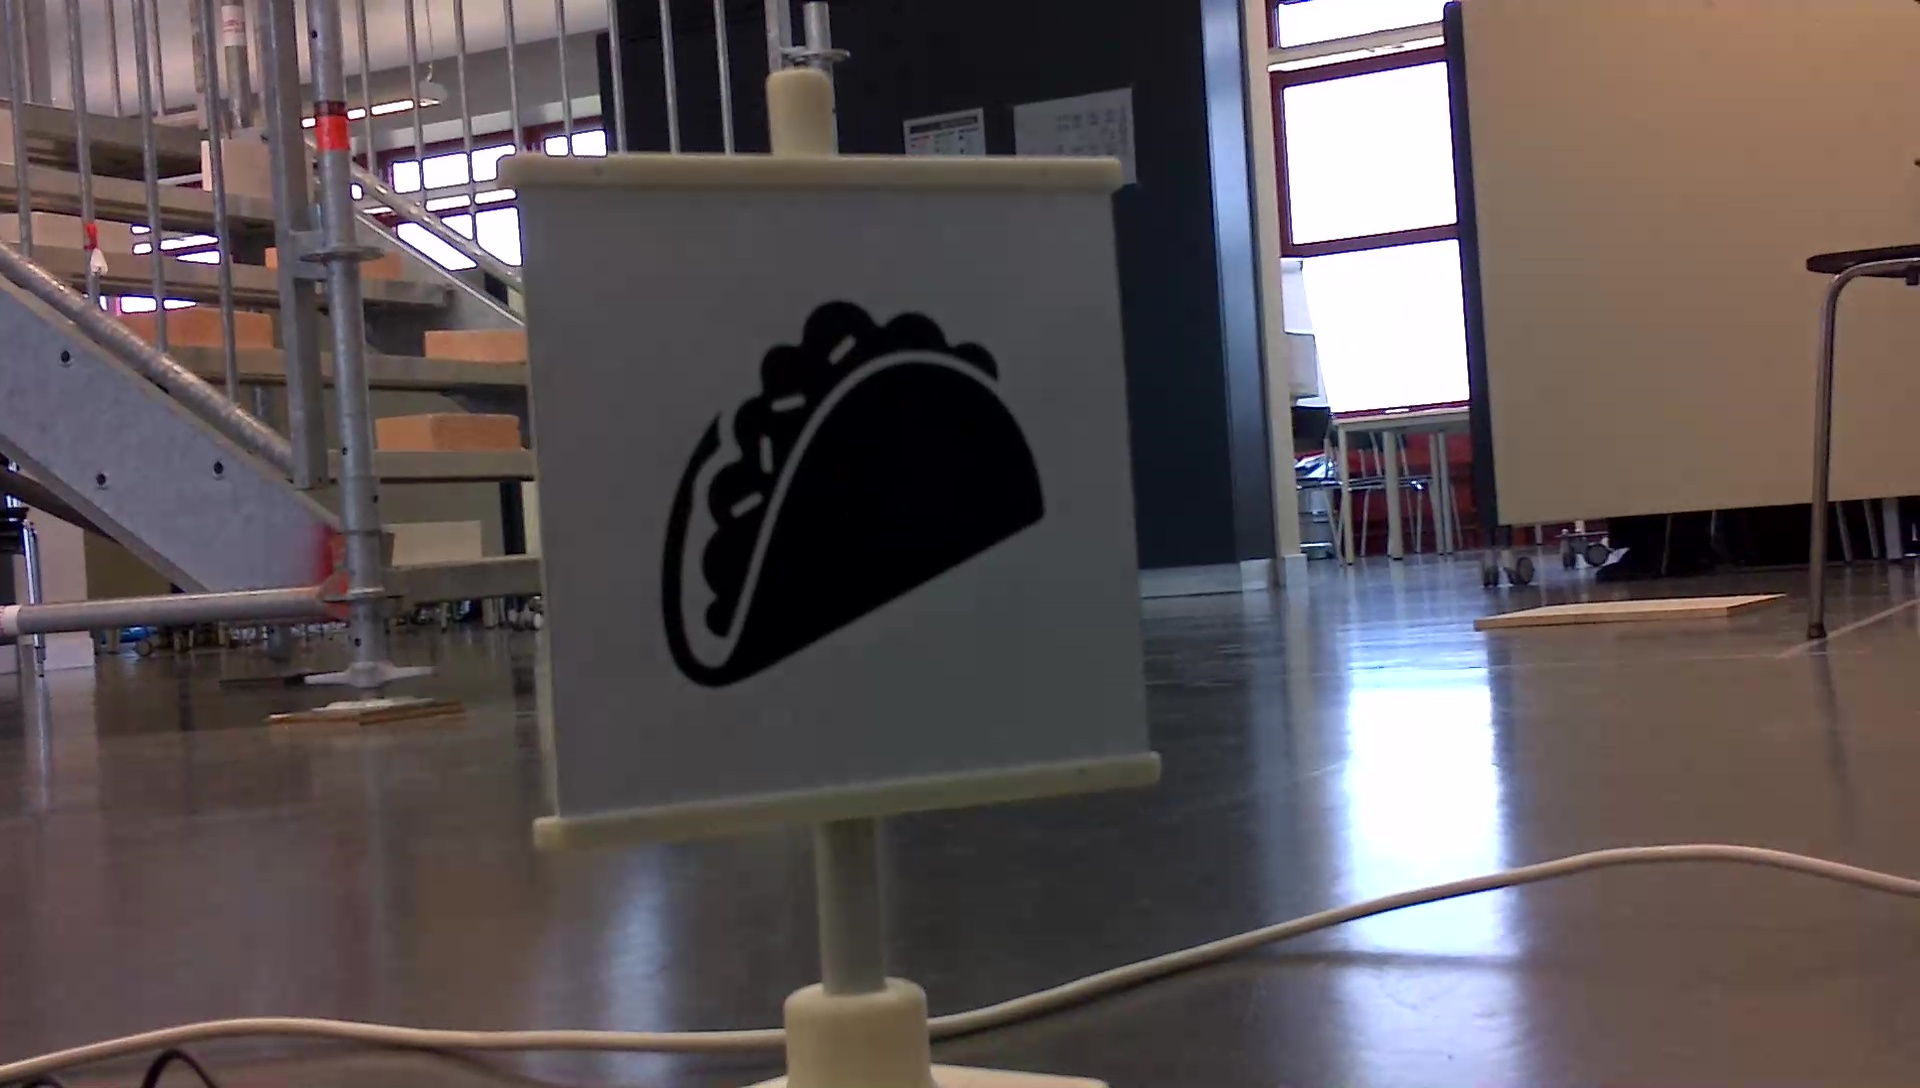brick: (380, 415, 517, 452), (393, 521, 480, 563), (427, 326, 521, 361)
taco: (647, 284, 1063, 698)
